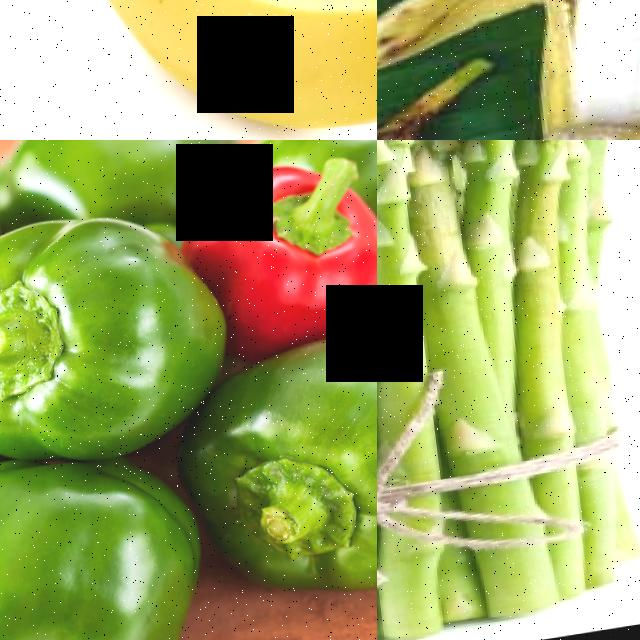asparagus: (490, 140, 578, 427), (377, 140, 448, 362)
banana: (9, 0, 377, 140), (454, 0, 640, 140)
bell pepper: (0, 209, 174, 455), (0, 446, 198, 640), (245, 340, 377, 617), (204, 150, 373, 336)
